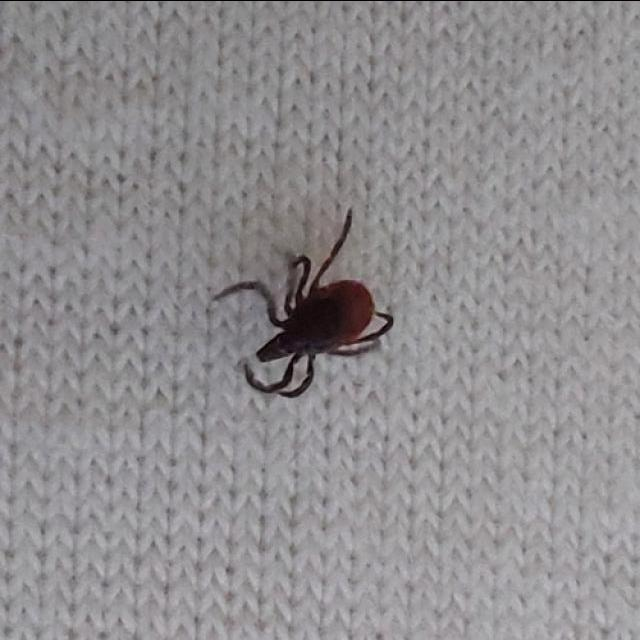Ixodes Ricinus-F: (214, 209, 392, 399)
